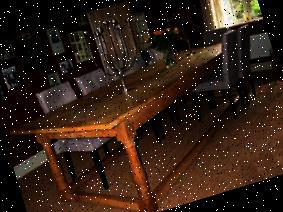Mesa: (0, 34, 276, 211)
Silla: (33, 68, 150, 203), (74, 55, 167, 168), (172, 28, 262, 130), (190, 21, 273, 118), (143, 34, 221, 126)
